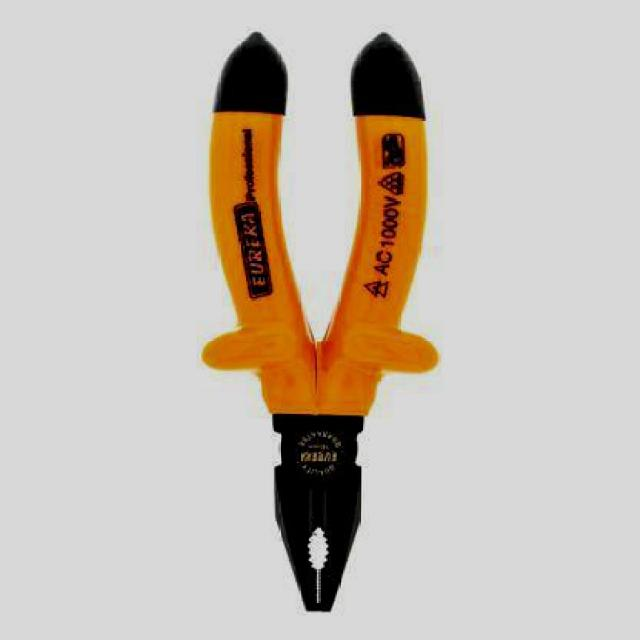Pliers: (206, 25, 434, 620)
